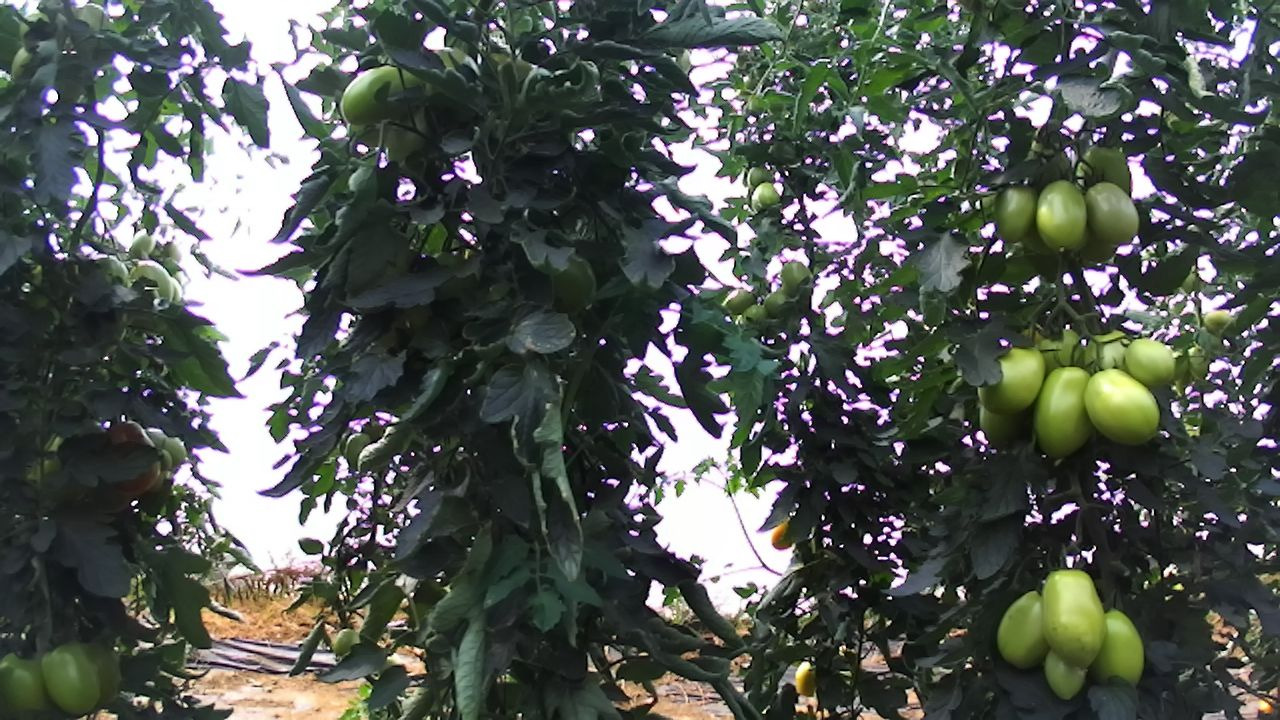tomato: (1038, 566, 1109, 671), (970, 338, 1052, 421), (1081, 365, 1162, 449), (1083, 597, 1150, 693), (1028, 365, 1093, 462), (39, 632, 105, 718), (335, 60, 418, 127), (991, 589, 1046, 673), (1032, 176, 1090, 255), (1069, 136, 1140, 198), (1081, 179, 1141, 246), (1035, 636, 1093, 704), (990, 182, 1042, 244), (1122, 336, 1178, 389), (776, 256, 816, 300), (721, 285, 761, 317), (761, 286, 792, 317), (793, 658, 817, 698)
